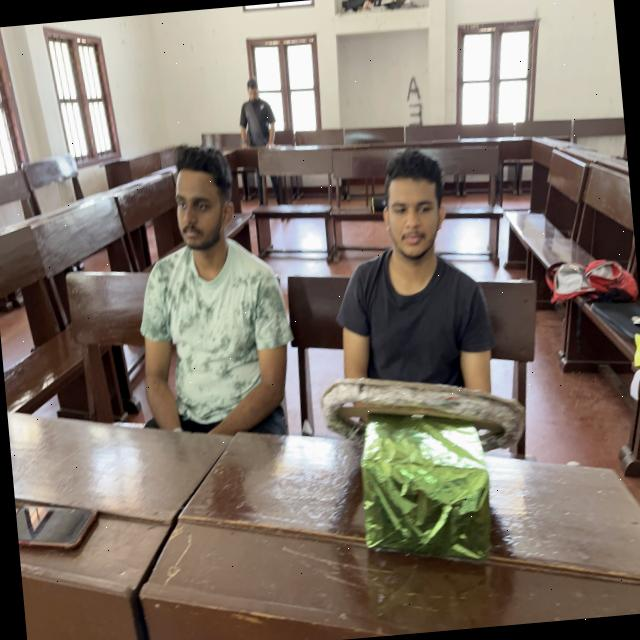no-seatbelt: (328, 250, 511, 468), (132, 240, 302, 466)
